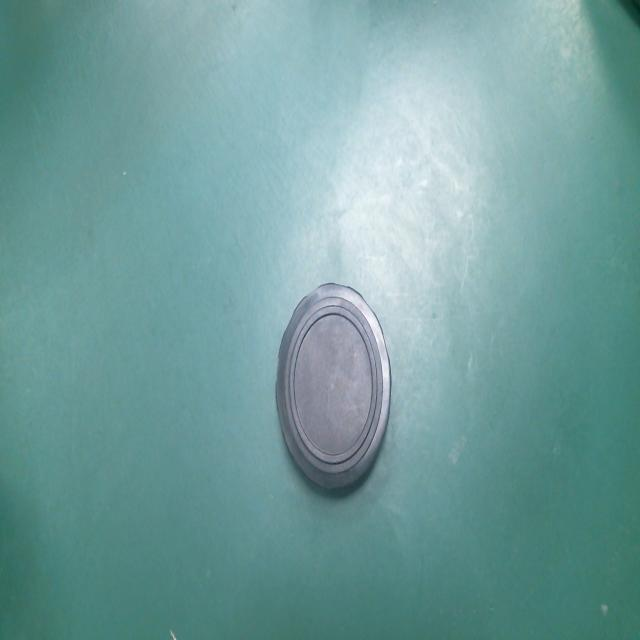cover: (263, 260, 432, 545)
